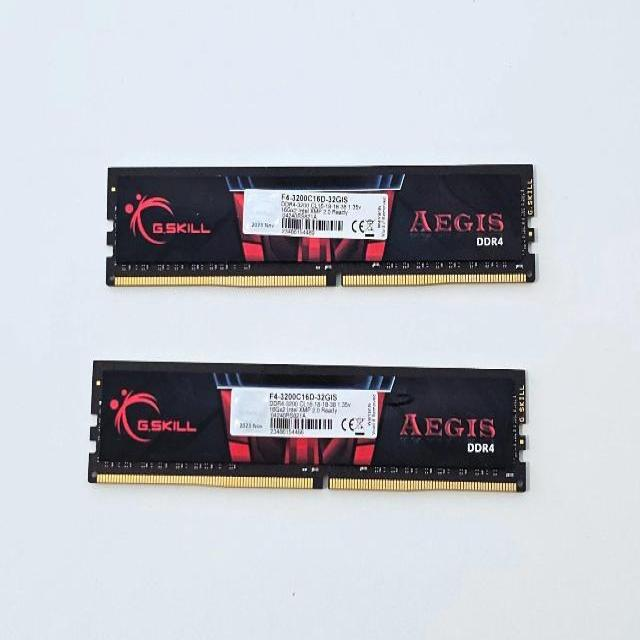RAM: (87, 359, 527, 494), (105, 162, 537, 289)
